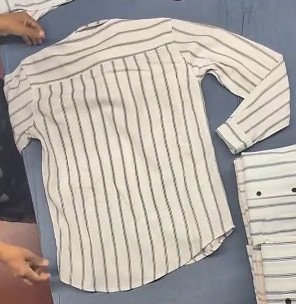SHIRT: (5, 88, 296, 258)
